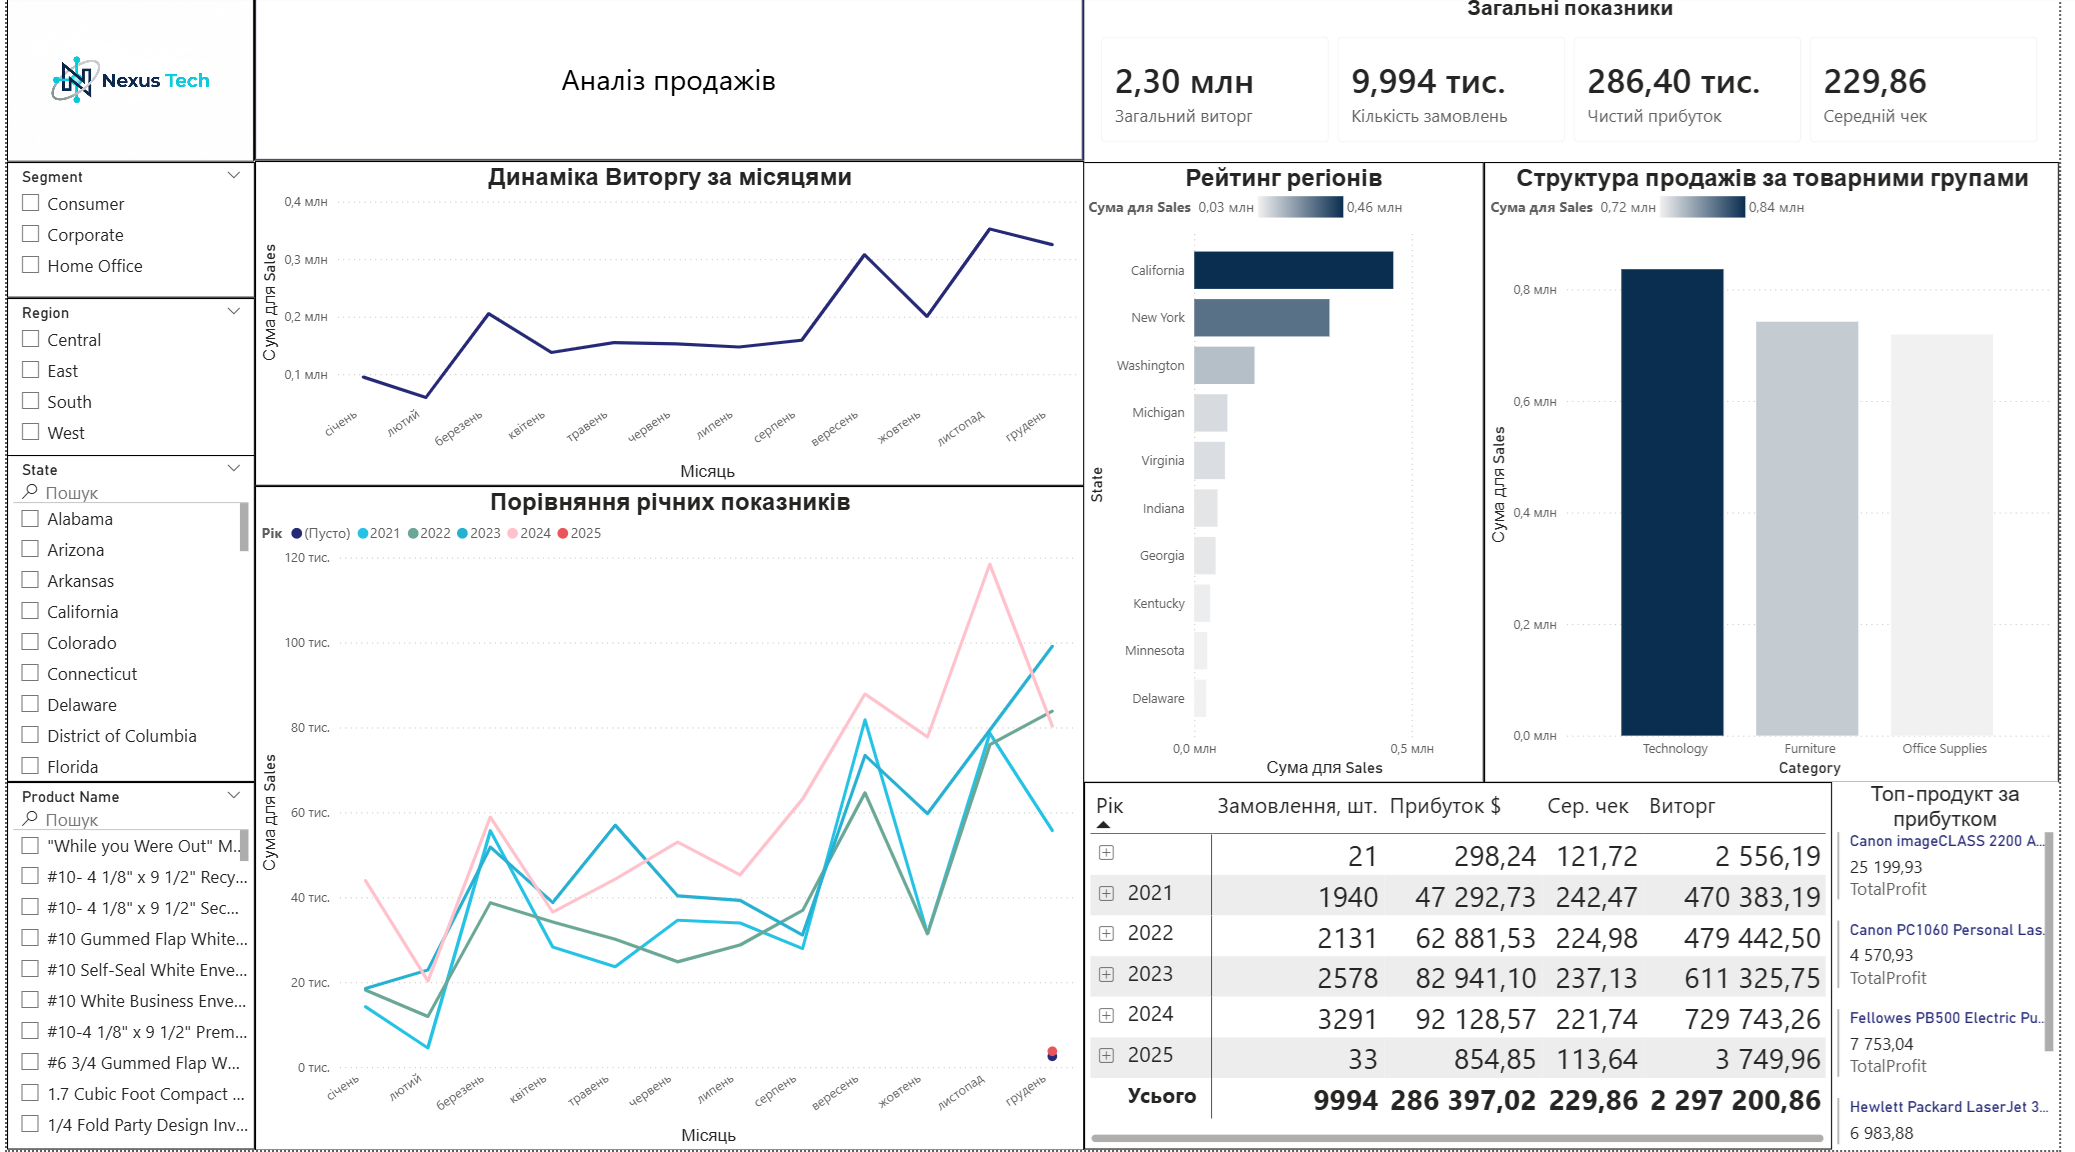

This screenshot's page, from the dashboard's own definition file:
{"tool":"powerbi","page":{"name":"Сторінка 1","canvas":[1920,1080],"ordinal":0},"visuals":[{"type":"cardVisual","title":"Загальні показники","fields":{"Data":["Sum(Orders.Sales)","CountNonNull(Orders.ID_Order )","Sum(Orders.Profit)","Avg(Orders.Sales)"]},"box":[1007.3,0,912.5,154.3],"z":0},{"type":"clusteredColumnChart","title":"Структура продажів за товарними групами","fields":{"Category":["Orders.Category"],"Y":["Sum(Orders.Sales)"]},"box":[1382.3,155.4,538.1,581.2],"z":1000},{"type":"clusteredBarChart","title":"Рейтинг регіонів","fields":{"Y":["Sum(Orders.Sales)"],"Category":["Orders.State"]},"box":[1006.1,155.4,376.2,581.2],"z":2000},{"type":"lineChart","title":"Динаміка Виторгу за місяцями ","fields":{"Category":["Orders.Order Date .Варіація.Ієрархія дат.Місяць"],"Y":["Sum(Orders.Sales)"]},"box":[232.2,154.4,775.6,304.4],"z":3000},{"type":"lineChart","title":"Порівняння річних показників","fields":{"Category":["Orders.Order Date .Варіація.Ієрархія дат.Місяць"],"Y":["Sum(Orders.Sales)"],"Series":["Orders.Delivery Date .Варіація.Ієрархія дат.Рік"]},"box":[232.2,458.9,775.6,622.2],"z":4000},{"type":"slicer","fields":{"Values":["Orders.Region"]},"box":[0,282.2,232.2,148.9],"z":5000},{"type":"slicer","fields":{"Values":["Orders.Segment"]},"box":[0,155.6,232.2,126.7],"z":6000},{"type":"slicer","fields":{"Values":["Orders.State"]},"box":[0,430,232.2,305.6],"z":7000},{"type":"slicer","fields":{"Values":["Orders.Product Name "]},"box":[0,735.6,232.2,344.4],"z":8000},{"type":"pivotTable","fields":{"Rows":["Orders.Delivery Date .Варіація.Ієрархія дат.Рік","Orders.Delivery Date .Варіація.Ієрархія дат.Місяць"],"Values":["CountNonNull(Orders.ID_Order )","Sum(Orders.Profit)","Avg(Orders.Sales)","Sum(Orders.Sales)"]},"box":[1007.9,735.6,700,344.4],"z":9000},{"type":"shape","box":[231.1,0,776.7,154.4],"z":10000},{"type":"image","box":[0,1.1,231.1,154.4],"z":11000},{"type":"multiRowCard","title":"Топ-продукт за прибутком","fields":{"Values":["Orders.Product Name ","Orders.TotalProfit"]},"box":[1708,736,212,344],"z":11001}]}

Visuals, with their boxes in screenshot pixels (x1, y1, x2, y2):
"Загальні показники" cardVisual: 1075/0/2034/162
"Структура продажів за товарними групами" clusteredColumnChart: 1469/163/2035/774
"Рейтинг регіонів" clusteredBarChart: 1074/163/1469/774
"Динаміка Виторгу за місяцями " lineChart: 260/162/1075/482
"Порівняння річних показників" lineChart: 260/482/1075/1136
slicer - Orders.Region: 16/297/260/453
slicer - Orders.Segment: 16/164/260/297
slicer - Orders.State: 16/452/260/773
slicer - Orders.Product Name : 16/773/260/1135
pivotTable - Orders.Delivery Date .Варіація.Ієрархія дат.Рік x Orders.Delivery Date .Варіація.Ієрархія дат.Місяць: 1076/773/1811/1135
shape: 259/0/1075/162
image: 16/1/259/163
"Топ-продукт за прибутком" multiRowCard: 1811/774/2034/1135
